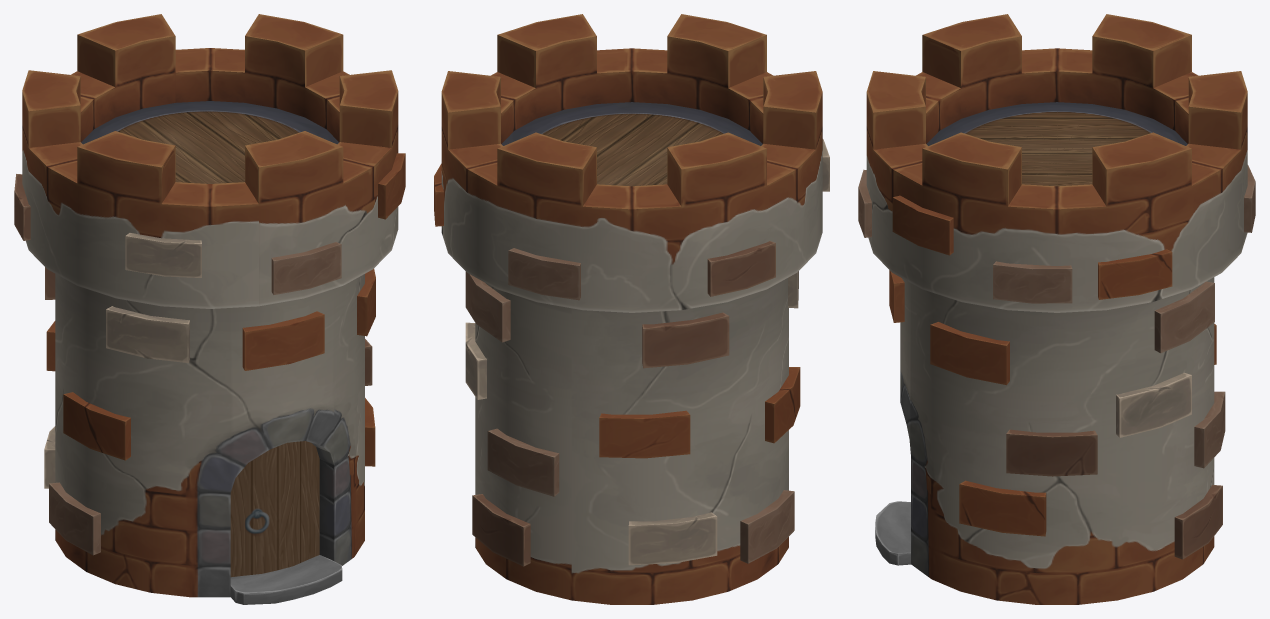
File: Camp1_Tower.fbx
The picture shows the model from 3 angles, left to right: view 1: azimuth 30°, elevation 25°; view 2: azimuth 150°, elevation 25°; view 3: azimuth 270°, elevation 25°; orthographic projection.
Visible parts, largest first — view 1: polySurface1447; view 2: polySurface1447; view 3: polySurface1447.
Part boxes in pixels (x1,y1,x2,y2): polySurface1447: (14,14,405,604); polySurface1447: (434,14,829,604); polySurface1447: (858,14,1255,604).
Bounding box in the file's own units: 195 × 247 × 199.
1 material, 1 textured.
